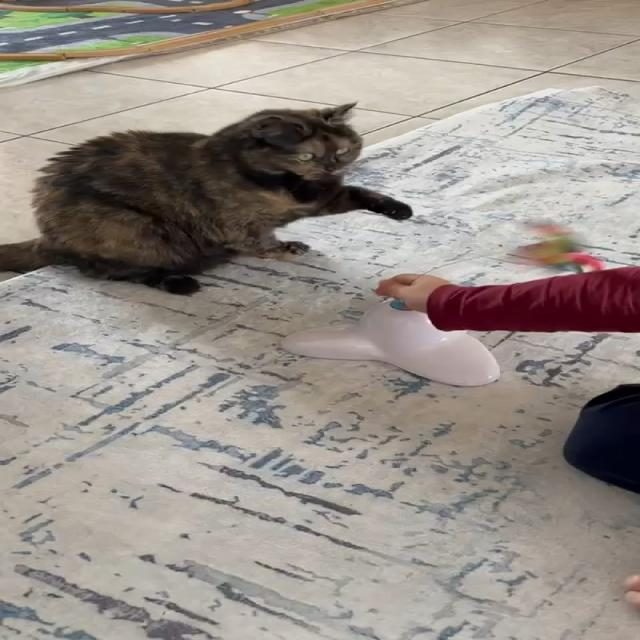authorized: (0, 100, 412, 296)
